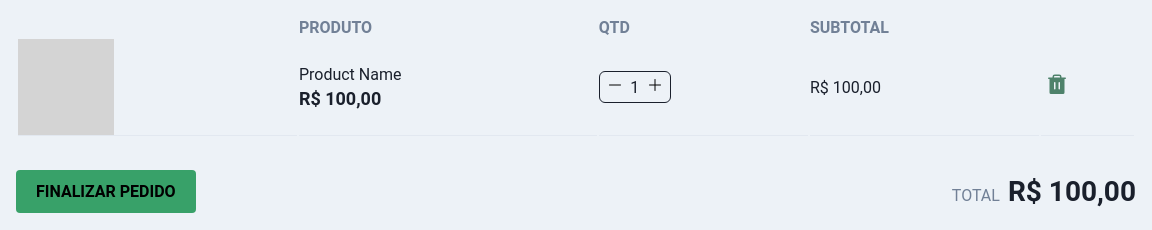
Scenario: Cart component › Should remove the item amount when user clicks on delete button
Click the button with test id "delete-button" at (1057, 87), box x1=1041 y1=69 x2=1073 y2=105
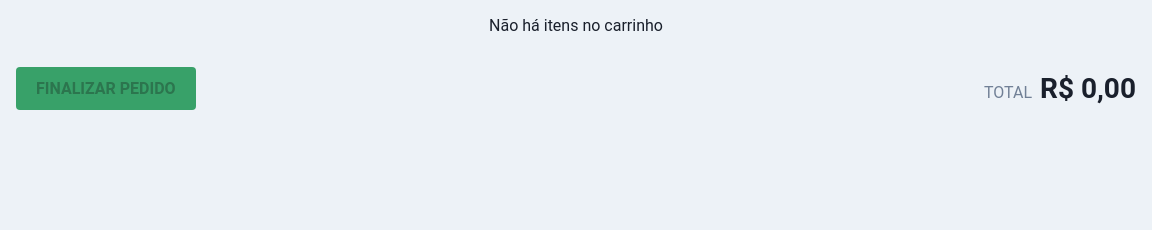
Expected: the text "Não há itens no carrinho" is shown, x1=489 y1=16 x2=663 y2=35
